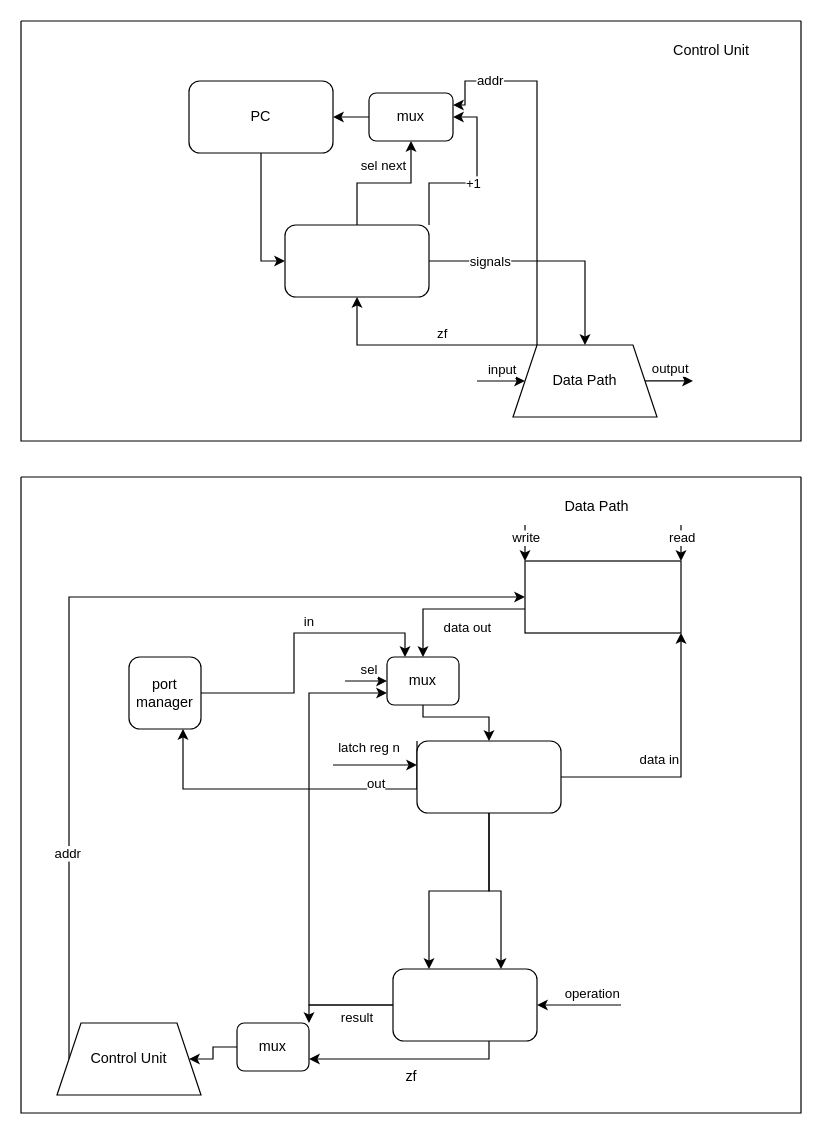
Some shapes in this 822 by 1134 pixel diagram are drawn without their labels. Here are the shapes that lost their labels. From the top down, the centre of each, then its label:
At point 356,260: "instruction decoder".
At point 602,596: "memory".
At point 488,776: "registers".
At point 464,1004: "ALU".
